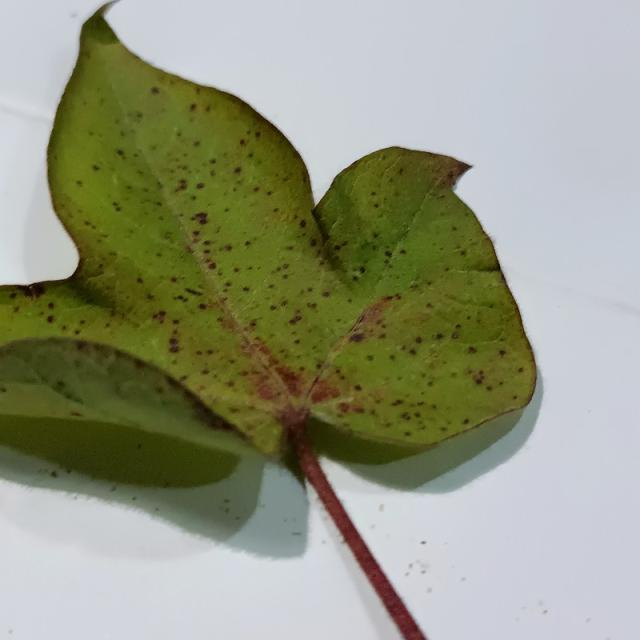Bacterial_Blight: (162, 312, 207, 360), (267, 362, 310, 401), (348, 300, 392, 337), (199, 410, 233, 433), (255, 378, 282, 401), (217, 311, 242, 335), (185, 206, 213, 227), (25, 282, 45, 298), (74, 339, 95, 354), (152, 310, 167, 323), (168, 337, 180, 353), (349, 331, 365, 343), (337, 401, 351, 413), (184, 287, 202, 296), (473, 371, 485, 384), (190, 230, 202, 243), (288, 314, 302, 325), (110, 172, 120, 187), (177, 179, 188, 191), (173, 294, 187, 303), (150, 86, 160, 95), (401, 412, 411, 421), (467, 346, 477, 354), (70, 411, 83, 417), (392, 399, 403, 406), (233, 166, 242, 174), (46, 315, 54, 324), (189, 103, 197, 112), (451, 331, 460, 339), (116, 149, 125, 157), (207, 262, 216, 270), (299, 219, 307, 228), (435, 332, 444, 340), (223, 244, 232, 252), (307, 301, 316, 309), (309, 238, 317, 247), (196, 182, 204, 190), (414, 336, 422, 344), (498, 349, 506, 357), (92, 164, 100, 172), (358, 266, 366, 274), (57, 379, 65, 387), (50, 470, 58, 478), (198, 303, 207, 310), (384, 250, 393, 257), (353, 384, 362, 391), (365, 354, 374, 361), (239, 138, 246, 146), (47, 302, 55, 309), (322, 291, 330, 298), (408, 348, 416, 355), (209, 158, 217, 165), (193, 140, 201, 147), (9, 292, 17, 299), (169, 276, 177, 283), (462, 418, 470, 425), (280, 300, 288, 307), (291, 531, 301, 536), (244, 240, 251, 247), (460, 249, 467, 256), (136, 277, 143, 284), (333, 244, 340, 251), (399, 249, 407, 255), (269, 305, 277, 311), (242, 286, 250, 292), (114, 206, 122, 212), (75, 180, 83, 186), (70, 12, 78, 18), (253, 186, 259, 193), (455, 323, 462, 329), (172, 319, 179, 325), (233, 267, 240, 273), (517, 367, 524, 373), (293, 339, 300, 345), (223, 498, 230, 504), (0, 387, 7, 393), (538, 600, 544, 607), (426, 587, 432, 594), (137, 443, 143, 449), (420, 569, 426, 575), (542, 609, 548, 615), (8, 628, 14, 634), (586, 617, 592, 623), (420, 540, 427, 545), (131, 496, 137, 501), (404, 572, 410, 577), (460, 577, 466, 582)
Cotton: (0, 6, 534, 455)
